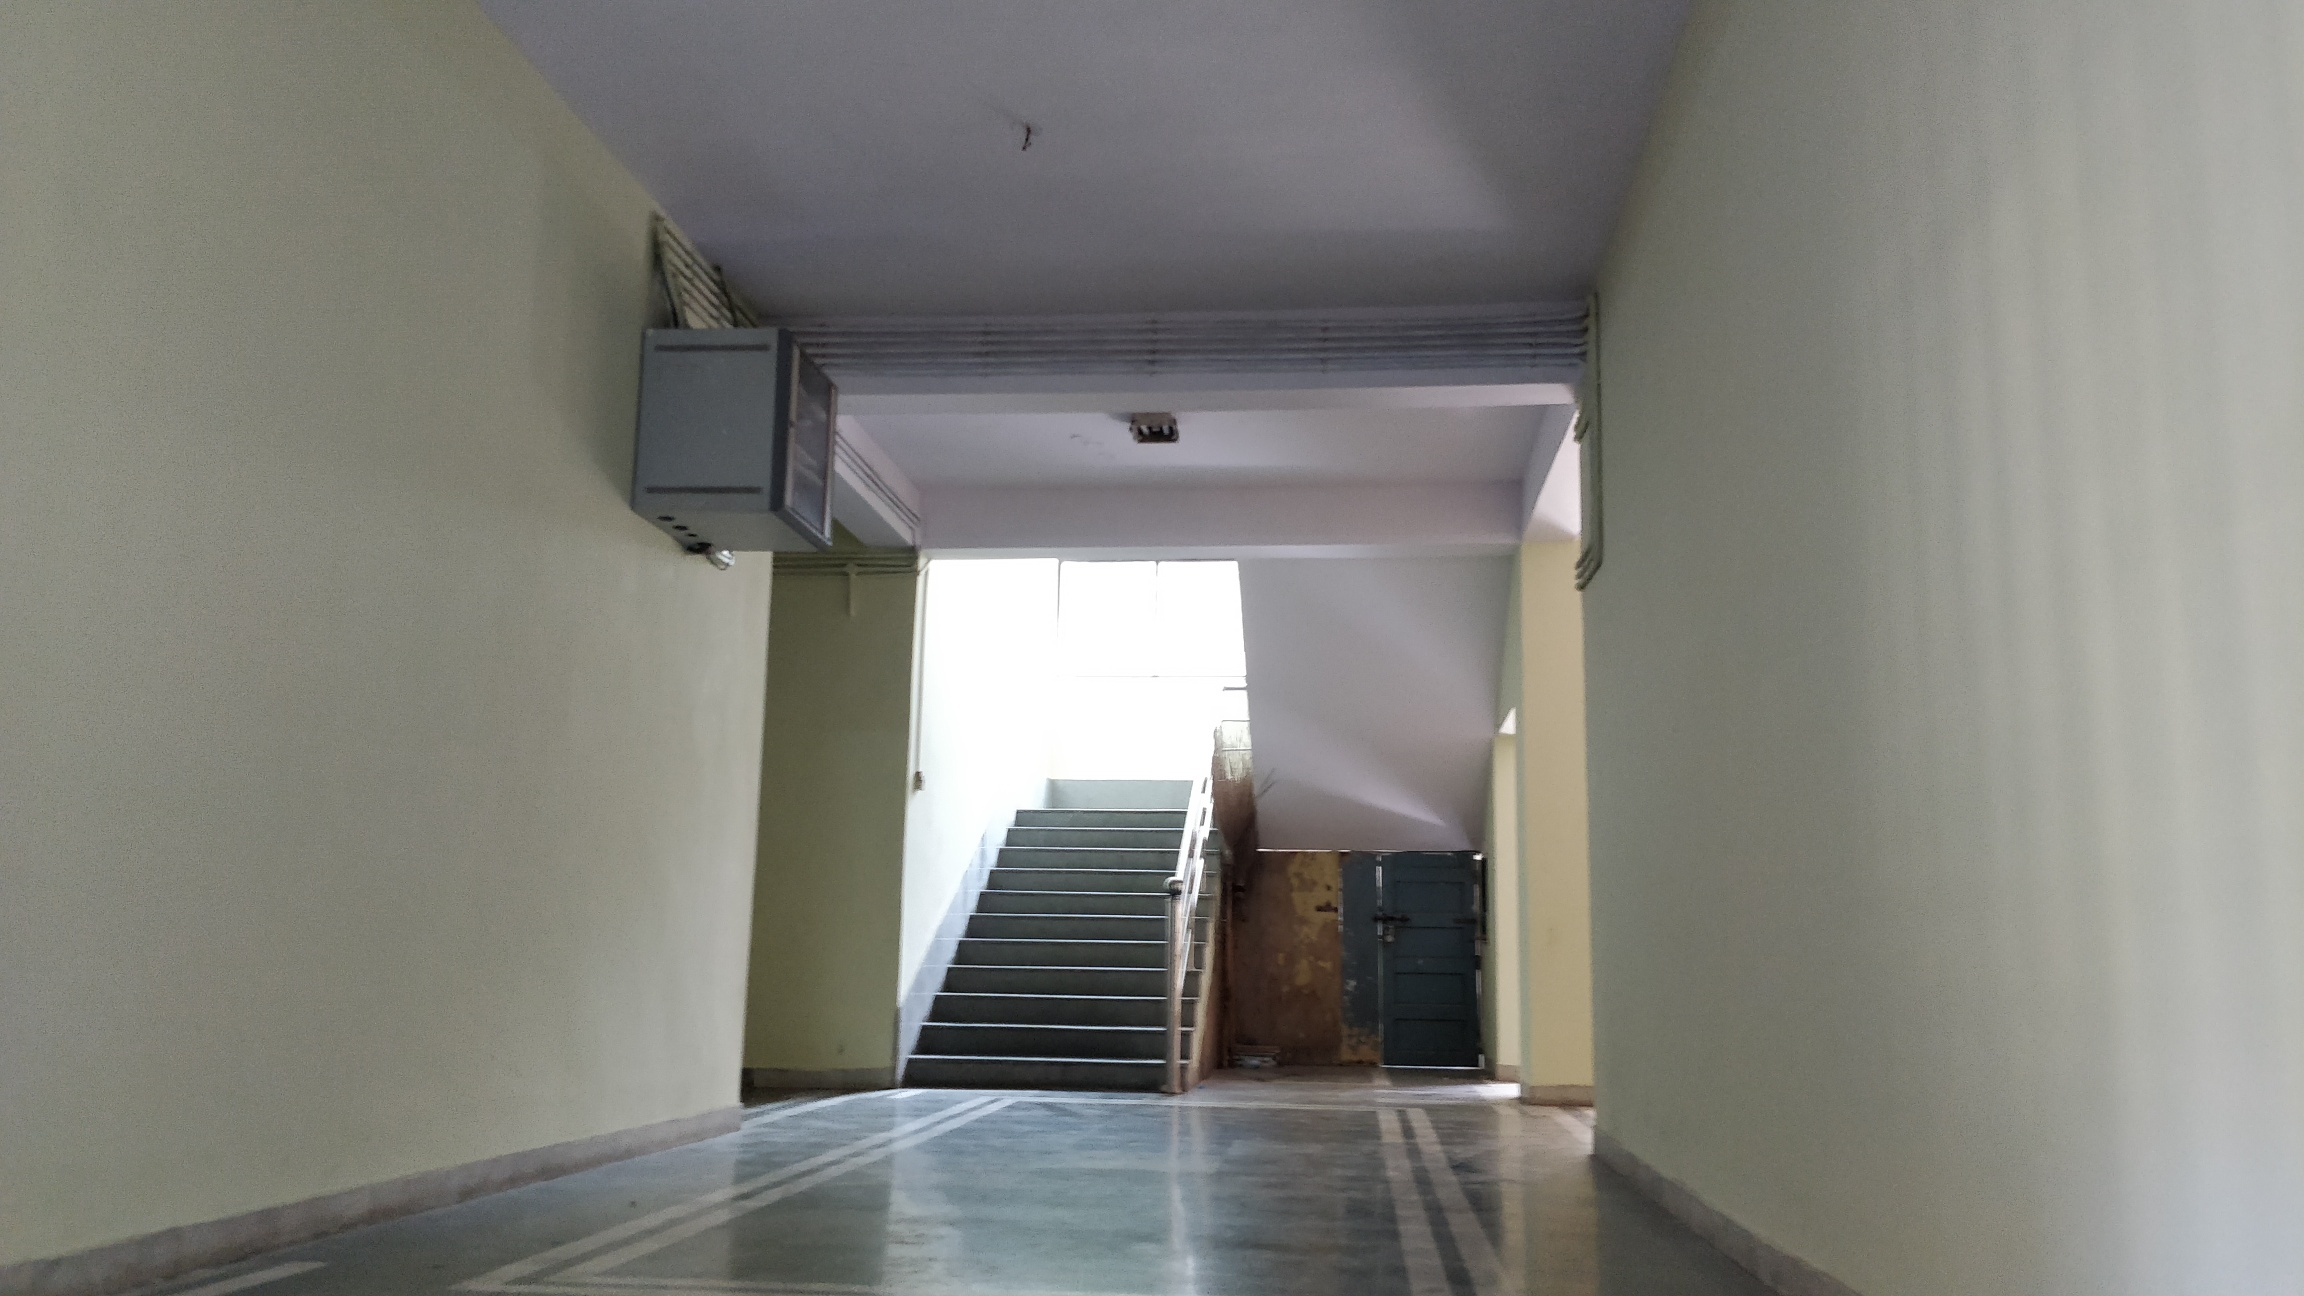stairs_up: (908, 801, 1215, 1089)
